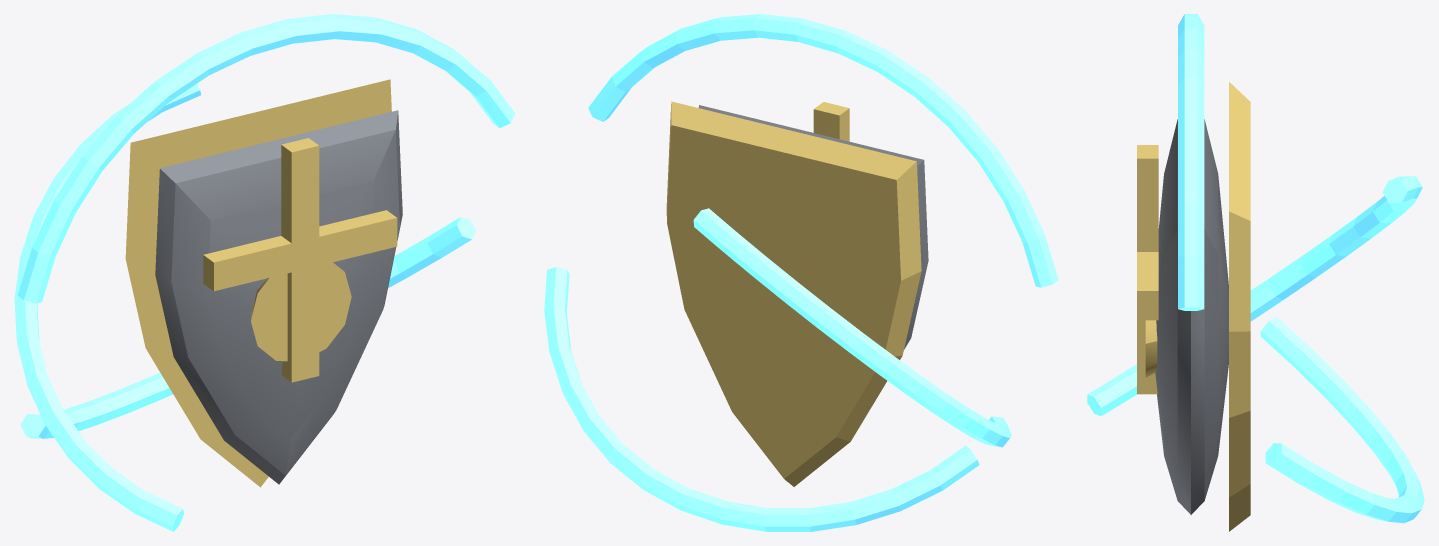
The model's file is pickups-and-collectibles-shield-bubble-2b8cd684__19891.glb.
The picture shows the model from 3 angles, left to right: view 1: azimuth 30°, elevation 25°; view 2: azimuth 150°, elevation 25°; view 3: azimuth 270°, elevation 25°; orthographic projection. The views are drawn at different scales.
Visible parts, largest first — view 1: body/iron, body/gold, body/gem; view 2: body/gold, body/gem, body/iron; view 3: body/gem, body/iron, body/gold.
Boxes of the visible parts, box(x1,y1,x2,y2) form: body/iron: box(155, 110, 402, 484); body/gold: box(125, 79, 397, 487); body/gem: box(14, 14, 515, 531); body/gold: box(666, 101, 921, 486); body/gem: box(544, 14, 1058, 531); body/iron: box(698, 105, 928, 349); body/gem: box(1087, 14, 1424, 523); body/iron: box(1155, 119, 1228, 514); body/gold: box(1137, 82, 1250, 531).
Bounding box in the file's own units: 0.5407 × 0.4972 × 0.3114.
